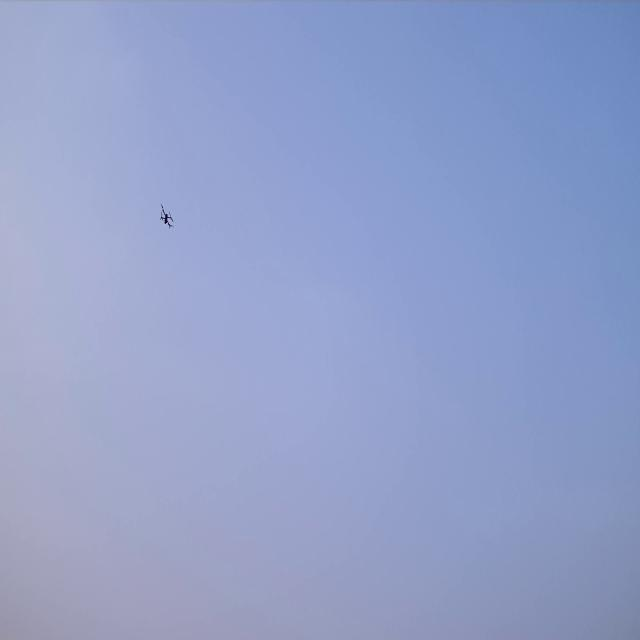UAV: (159, 201, 175, 229)
